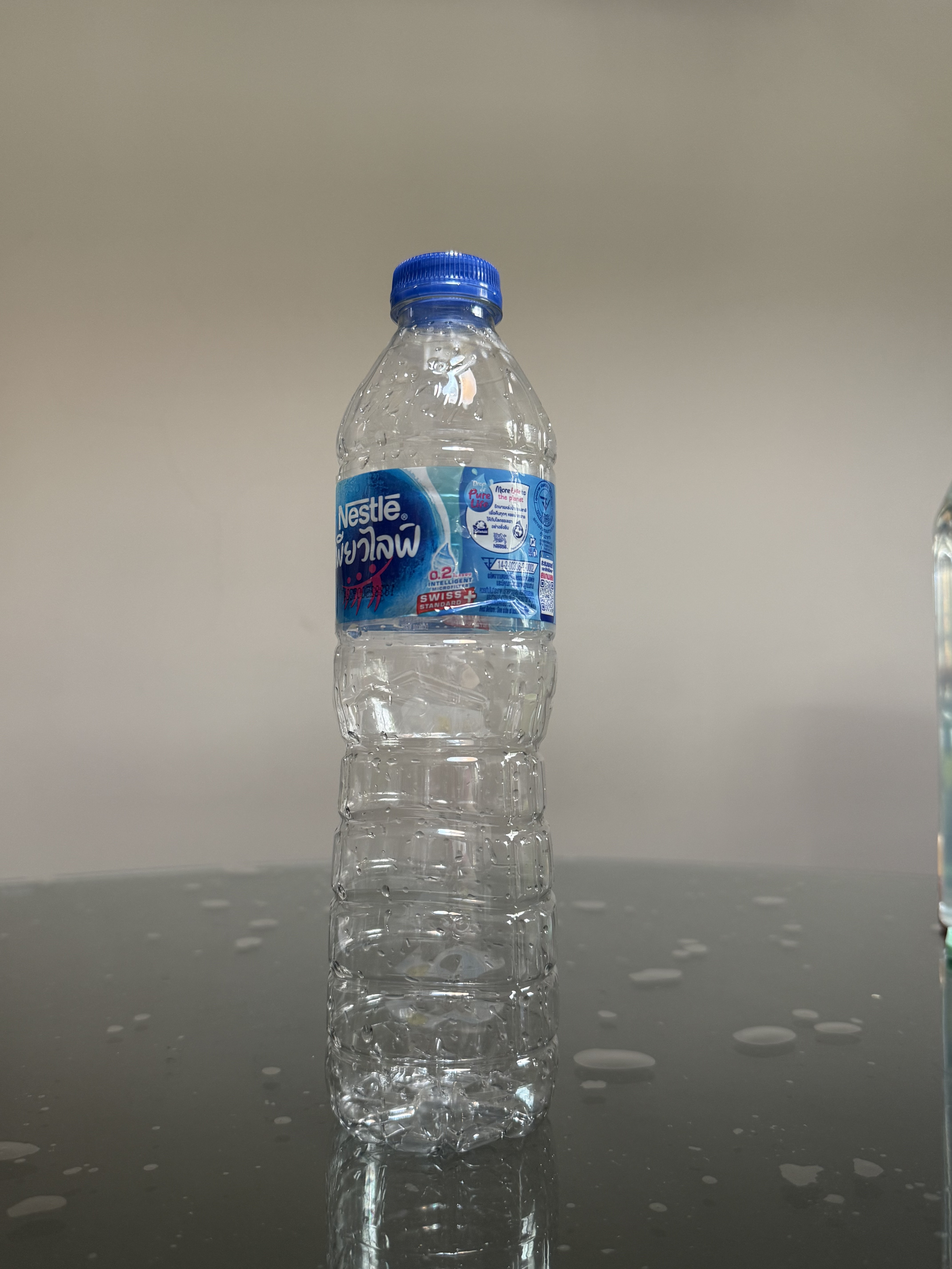closed_cap: (388, 248, 504, 324)
